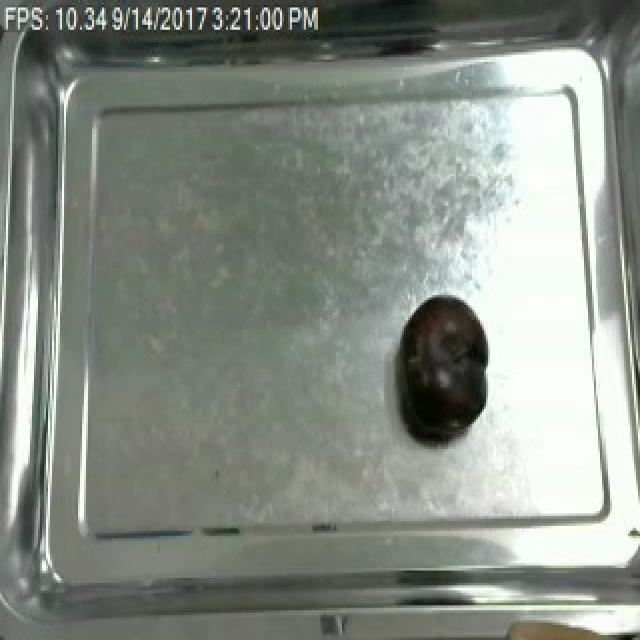Fruit: (394, 290, 492, 444)
